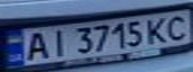1: (109, 20, 130, 50)
3: (69, 24, 93, 55)
5: (124, 18, 148, 47)
7: (90, 21, 112, 52)
A: (18, 29, 51, 62)
C: (160, 12, 193, 41)
I: (45, 27, 72, 57)
K: (142, 15, 175, 44)
